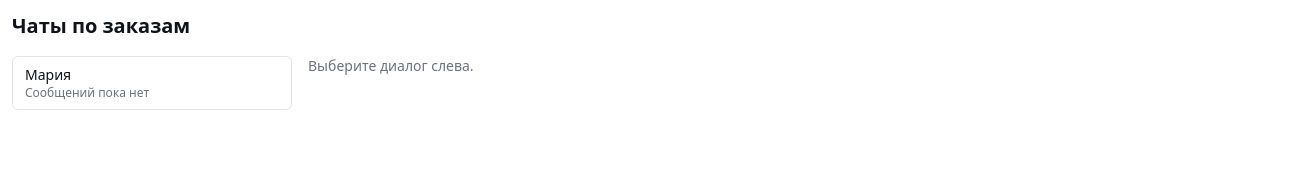
ChatsPage › отправляет сообщение и очищает поле
Click the button "Мария Сообщений пока нет".
click(152, 83)  # box [12,56,292,110]
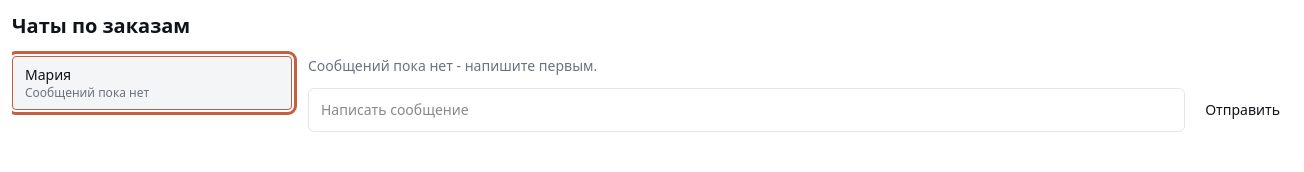
Result: the field with placeholder "Написать сообщение" is shown
Type "Отправляю сегодня" into the field with placeholder "Написать сообщение".
click(747, 110); type("Отправляю сегодня")  # box [308,88,1185,132]
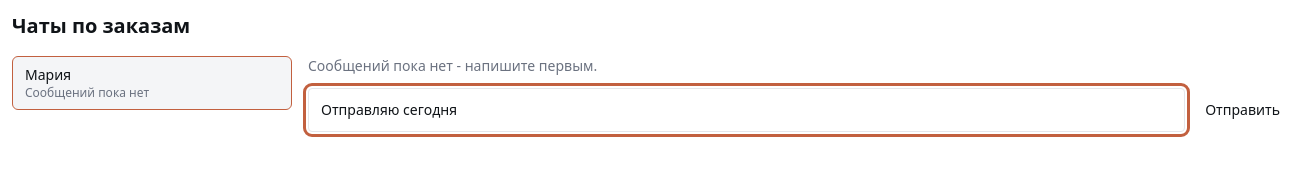
Click the button "Отправить".
click(1243, 110)  # box [1193,88,1292,132]
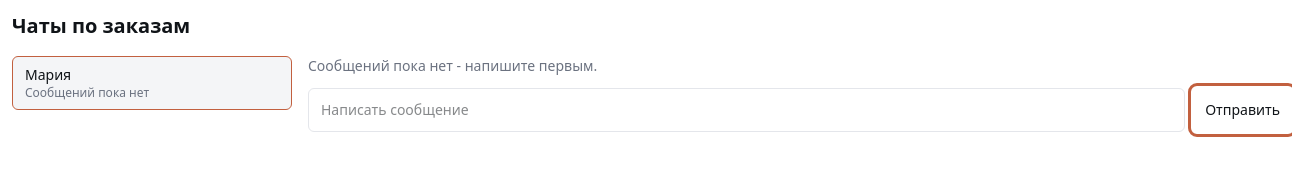
Result: the field with placeholder "Написать сообщение" is empty at [308,88,1185,132]
